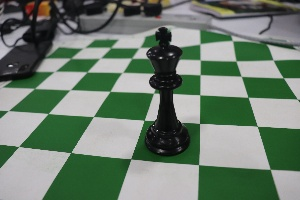black_king: (136, 16, 195, 160)
